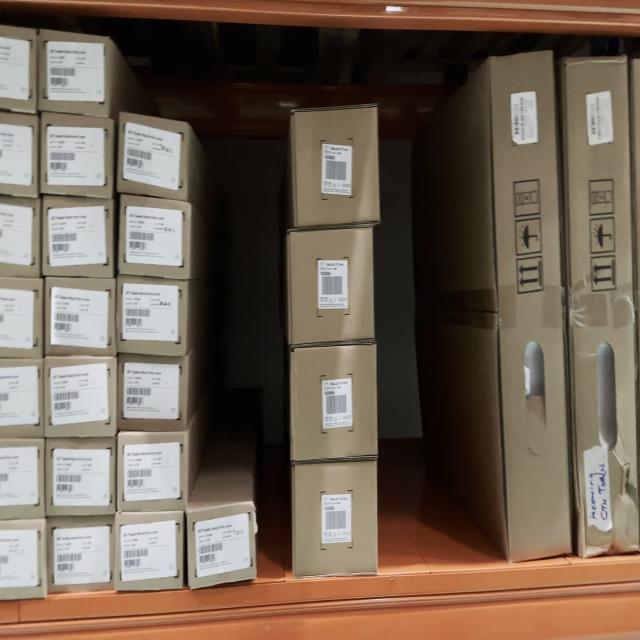box: (489, 50, 571, 563), (291, 346, 377, 457), (290, 229, 373, 341), (295, 120, 380, 220), (296, 471, 376, 572), (41, 32, 108, 114), (45, 441, 114, 514), (46, 360, 113, 435), (42, 121, 111, 193), (44, 198, 111, 272), (118, 281, 186, 353), (123, 200, 187, 276), (48, 281, 113, 354), (120, 438, 183, 510), (124, 118, 183, 194), (188, 512, 252, 581), (117, 520, 182, 585), (120, 361, 184, 427), (50, 524, 111, 589)
